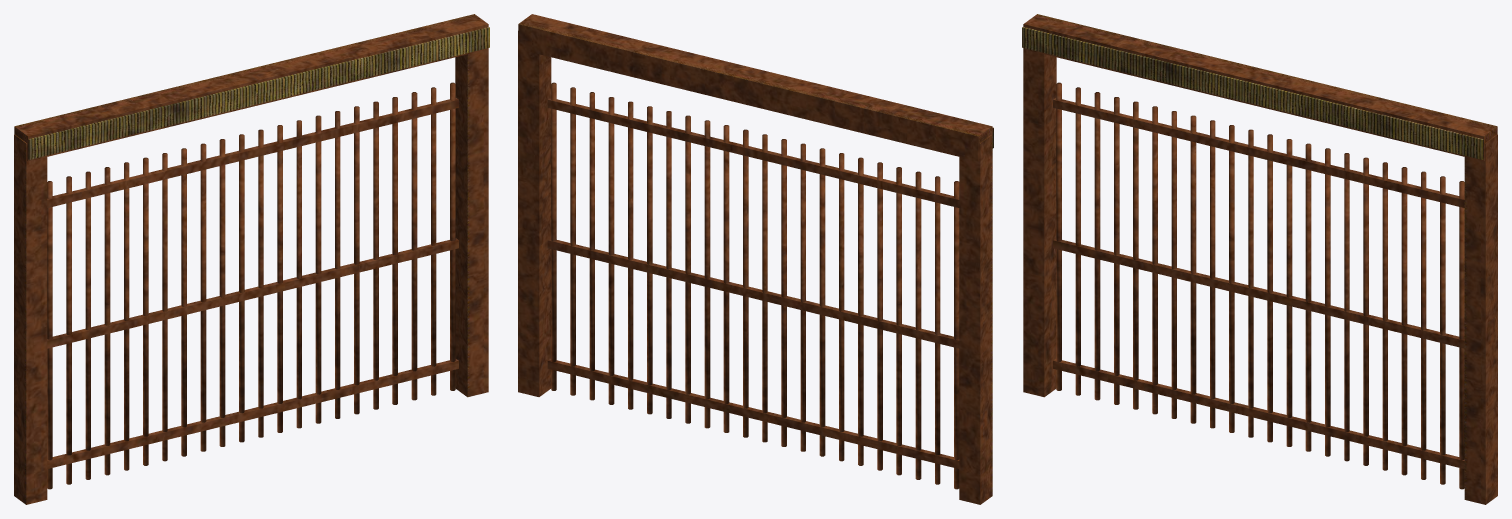
Rendered from coaster_gate.glb.
3 renders of one model, left to right at view 1: azimuth 30°, elevation 25°; view 2: azimuth 150°, elevation 25°; view 3: azimuth 330°, elevation 25°, orthographic.
Parts seen in each view (by area): view 1: Grate, Main; view 2: Grate, Main; view 3: Grate, Main.
Boxes of the visible parts, box(x1,y1,x2,y2) form: Grate: box(47, 82, 458, 489); Main: box(14, 14, 489, 504); Grate: box(547, 82, 959, 489); Main: box(518, 14, 993, 504); Grate: box(1053, 82, 1464, 489); Main: box(1022, 14, 1497, 504).
Bounding box in the file's own units: 4.82 × 3.67 × 0.275.
Materials: 2 (2 with a texture image).
